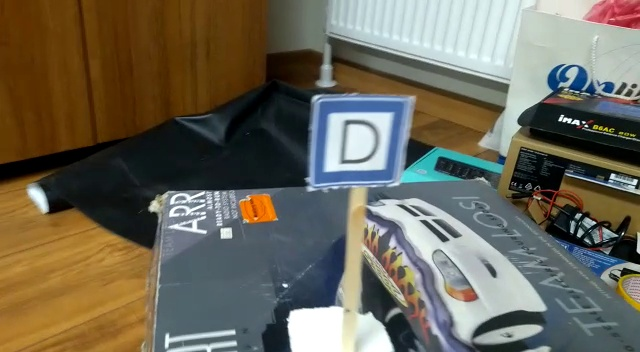durak: (297, 96, 405, 186)
